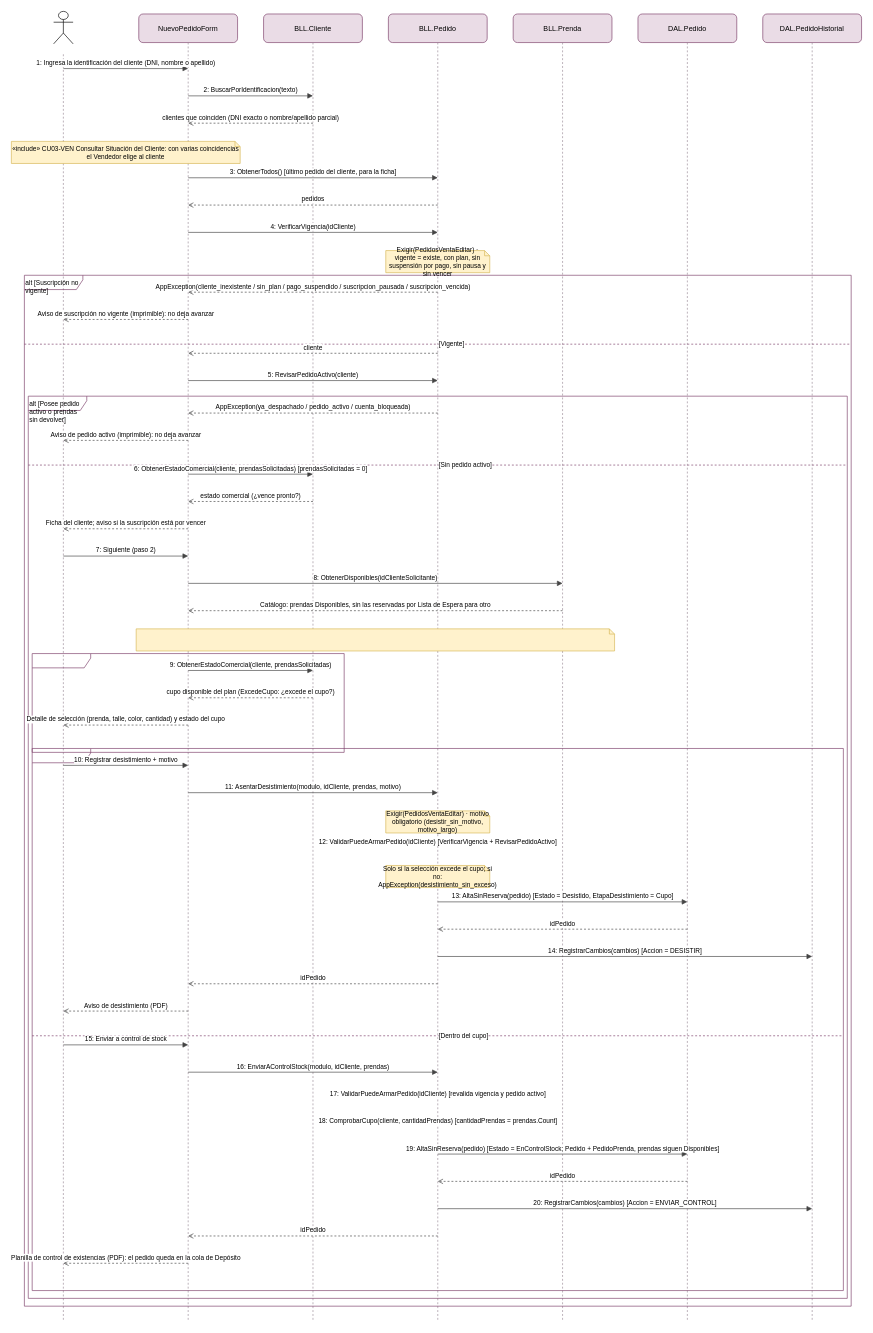
This 873x1333 diagram has some shape labels left out. The box of each missing label's shape, as (x1, y1, x2, y2) in pixels:
alt [Excede el cupo y el cliente no ajusta]: (32, 748, 843, 1291)
loop [Por cada prenda que el Vendedor anota (o quita) de la selección]: (32, 653, 344, 752)
Vendedor: (53, 11, 73, 44)
«include» CU02-VEN Consultar Catálogo: (136, 628, 615, 651)
